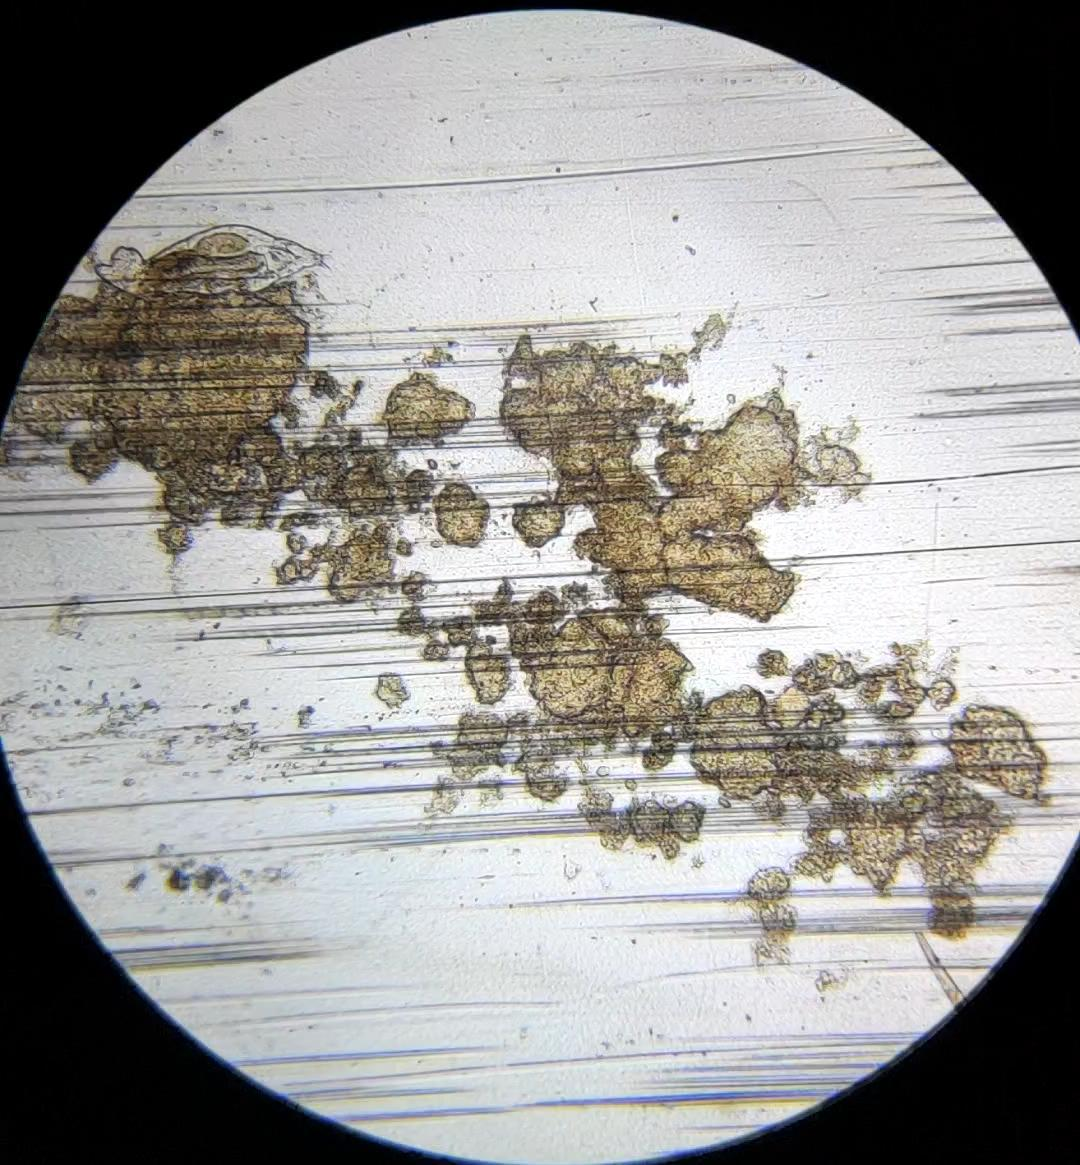Do: (96, 223, 332, 300)
